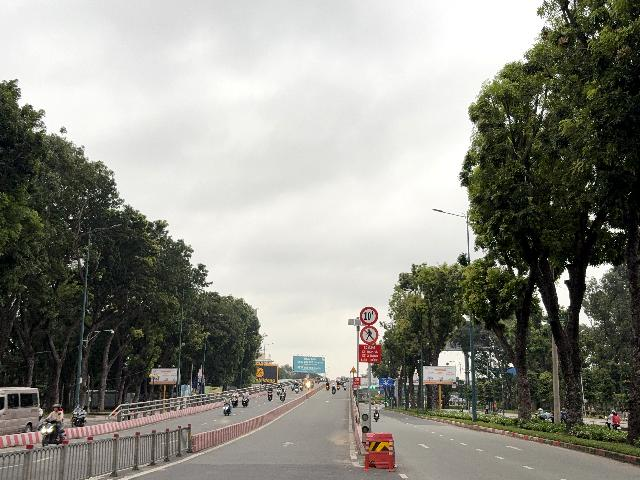cam-nguoi-di-bo: (360, 326, 379, 345)
han-che-trong-luong-xe: (359, 306, 379, 325)
